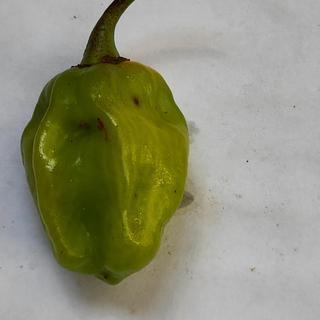Defect: (72, 107, 121, 149), (122, 86, 153, 114)
